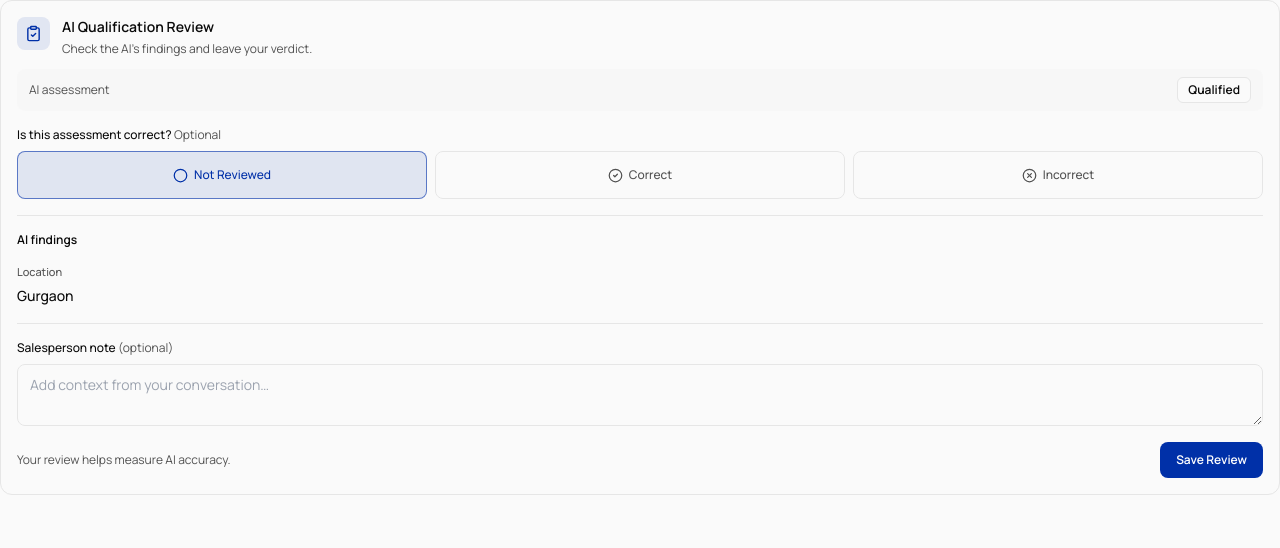
Test case: new AI results reset the review and stale saves show a recoverable error
Click the button "Save Review" at (1212, 460), box [1160,442,1263,478]
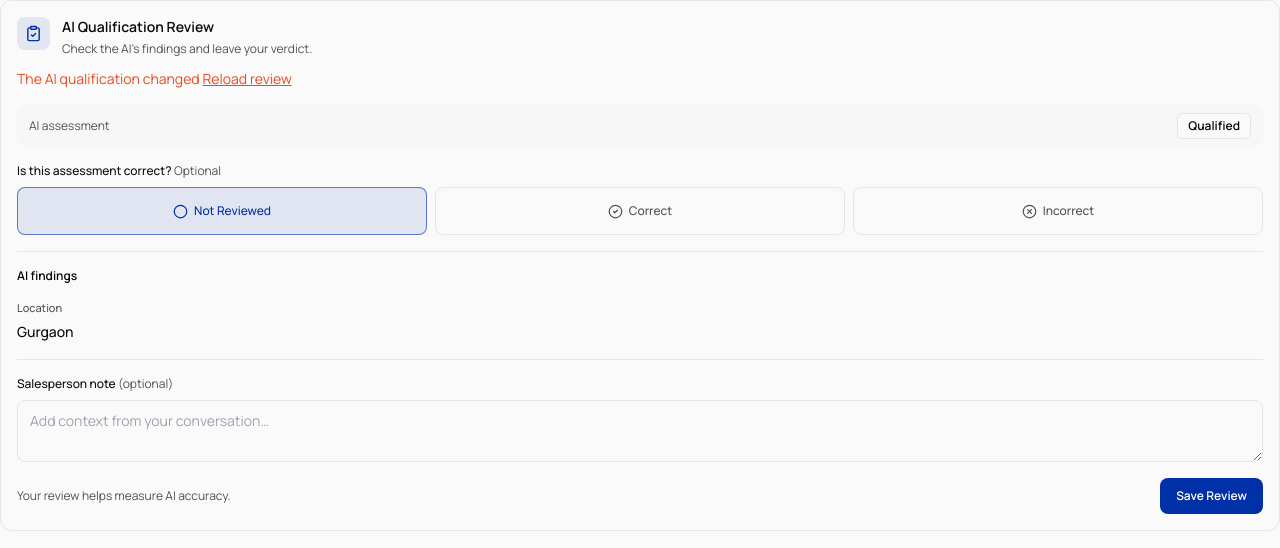
Expected: the message "The AI qualification changed Reload review" is shown, [17,69,292,89]
Click the button "Reload review" at (247, 79), box [202,69,292,89]
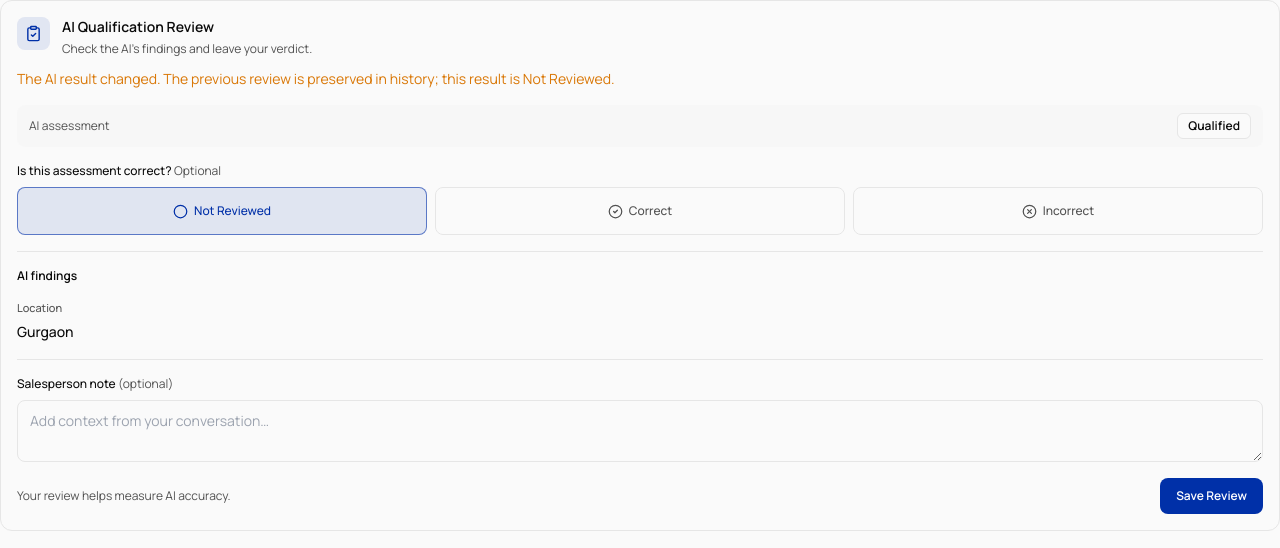
Expected: the radio button labelled "Not Reviewed" is checked, [17,187,427,235]
Expected: the text "previous review is preserved" is shown, [17,69,615,88]
